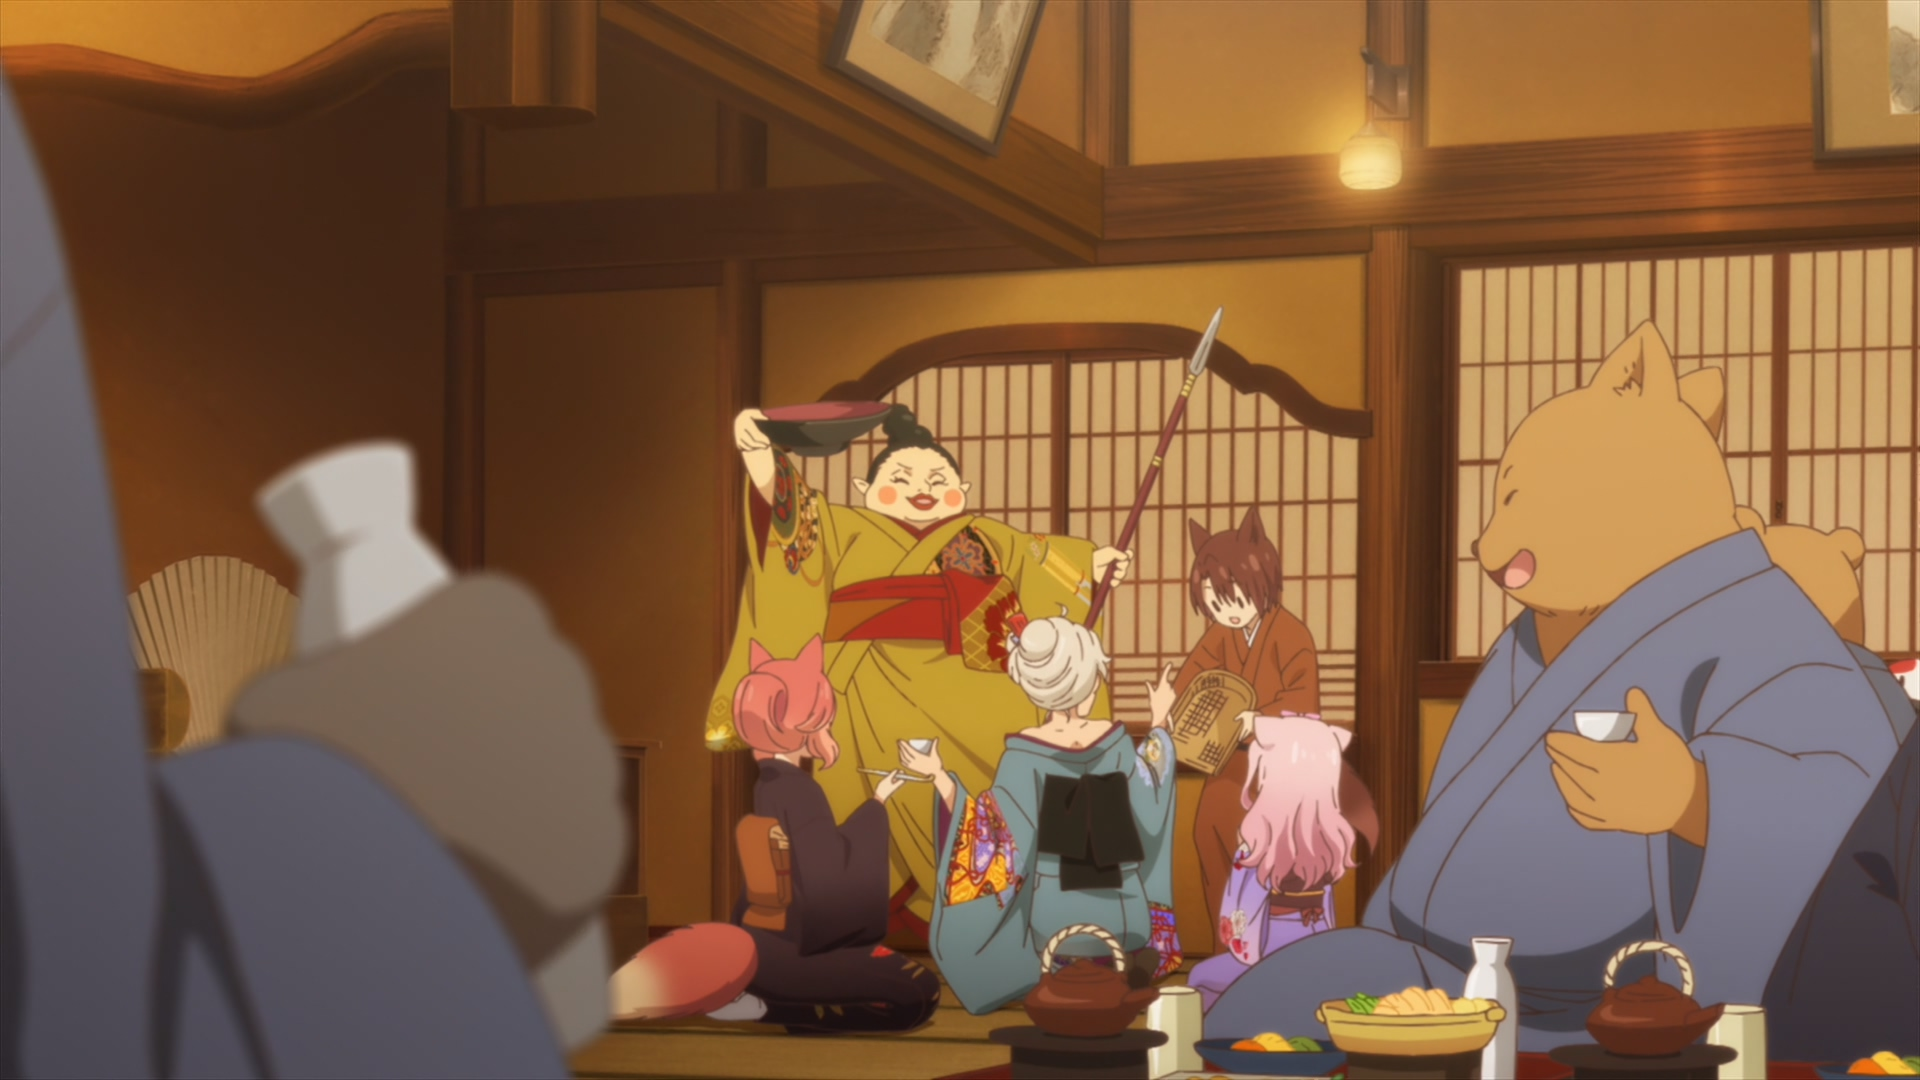其他: (1, 1, 634, 1080), (1203, 322, 1896, 1052), (704, 404, 1135, 949), (897, 604, 1176, 1021), (1731, 505, 1915, 742)
枣: (1160, 501, 1378, 957)
椿: (611, 632, 939, 1036)
莲: (1187, 711, 1365, 1015)
